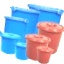plastic: (3, 33, 18, 52)
